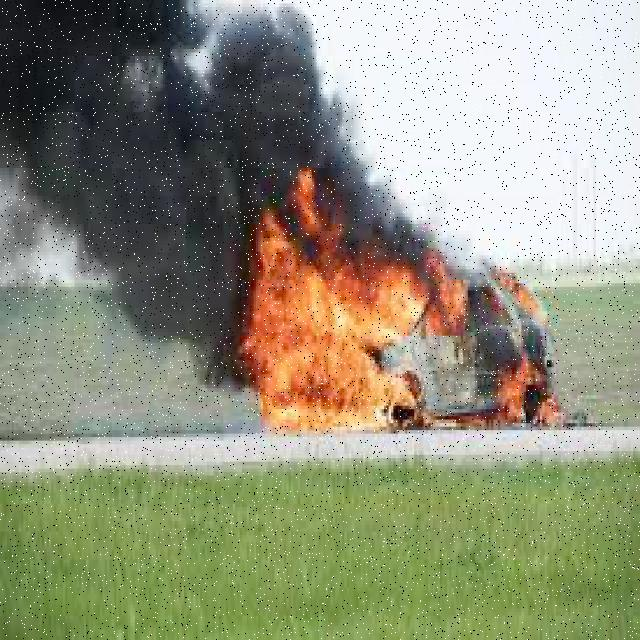fire: (255, 180, 416, 429), (499, 362, 568, 436)
smoke: (7, 2, 255, 276)
